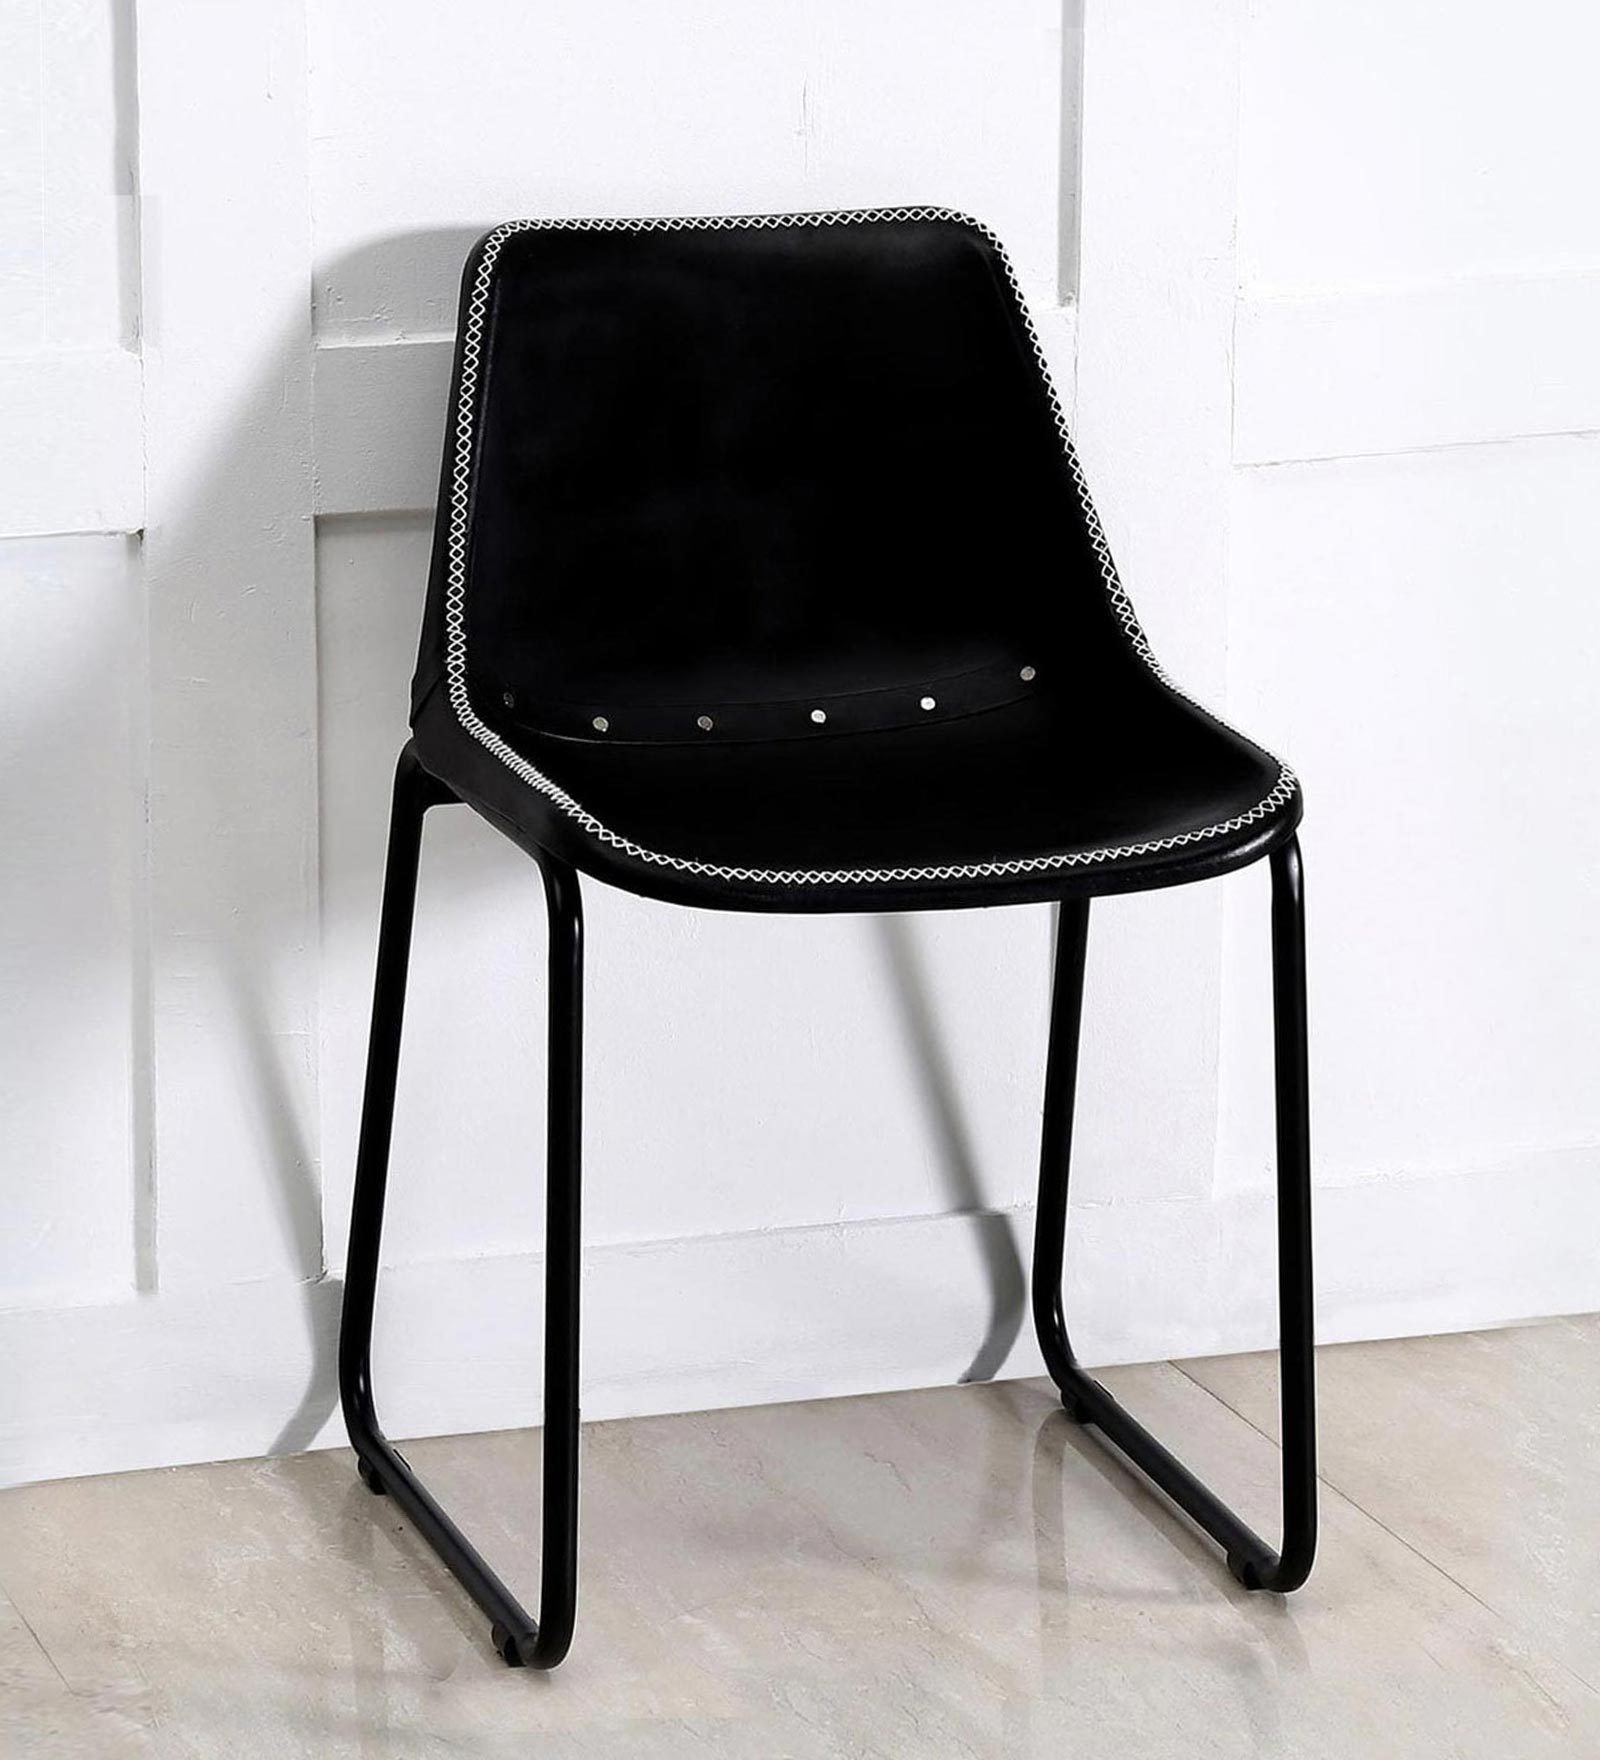Medina Black Color Leather Accent Chair by Bohemiana: (337, 202, 1330, 1671)
